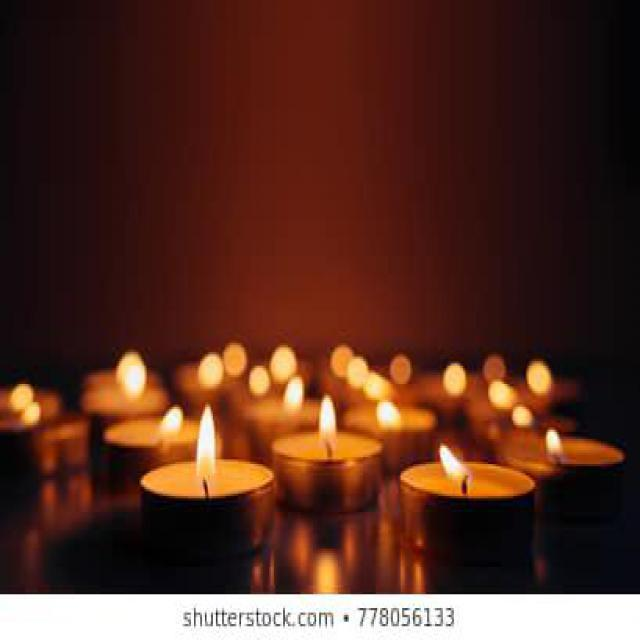Fire: (196, 403, 216, 486), (439, 444, 472, 484), (320, 393, 337, 453)
